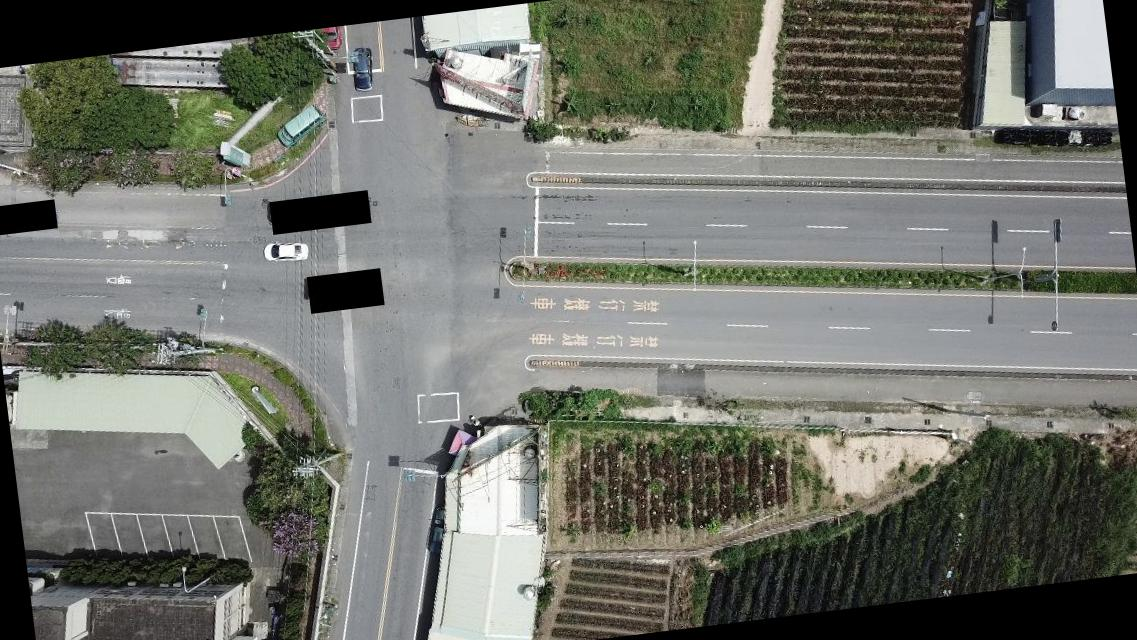vehicle: (272, 99, 326, 148), (348, 44, 377, 94), (421, 508, 452, 552), (260, 238, 310, 265), (319, 26, 344, 48)
